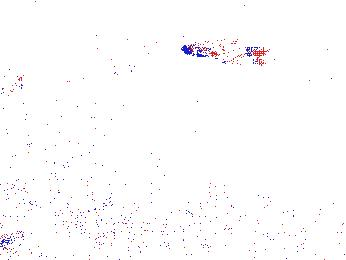redtail glassfish: (181, 34, 270, 74), (59, 54, 136, 84)
